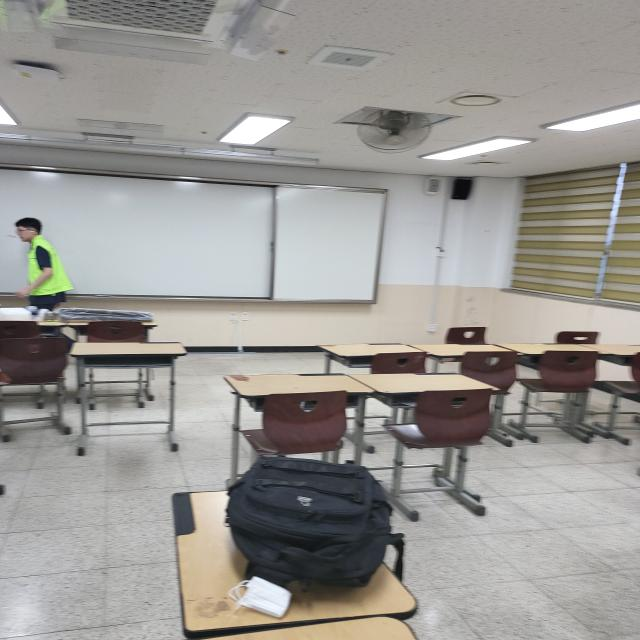weston_spy: (16, 228, 75, 304)
